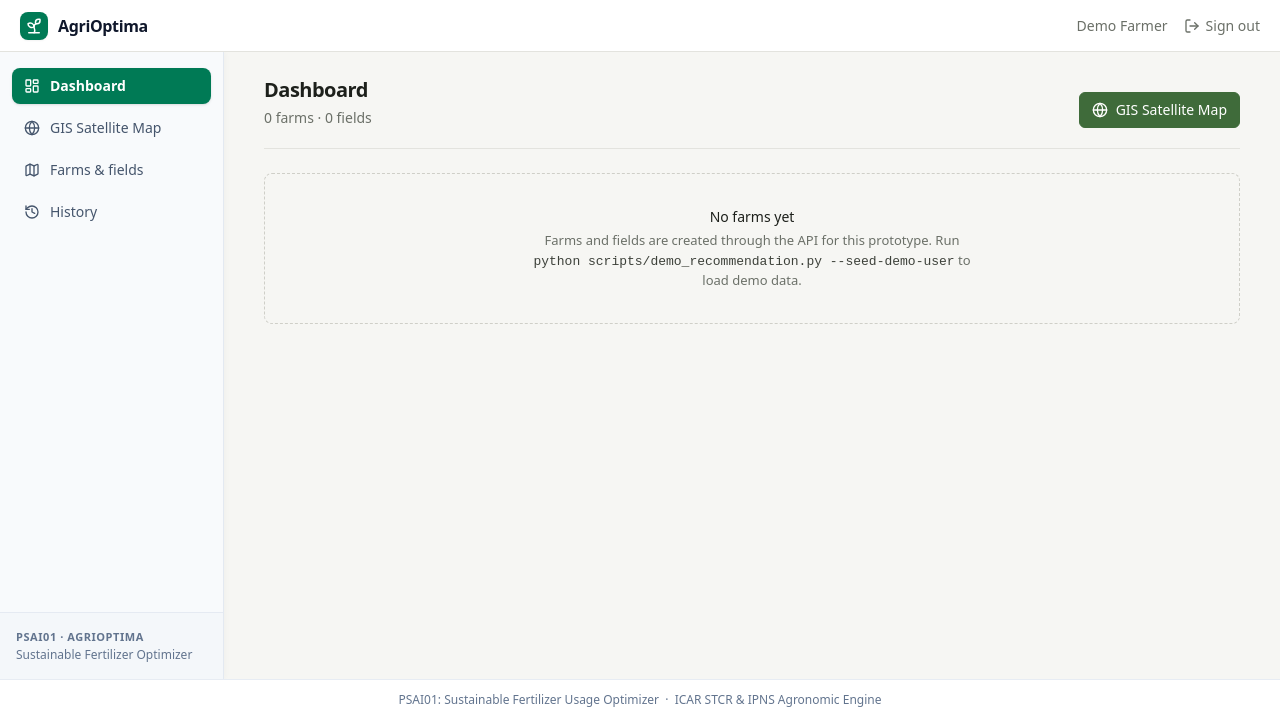
it: login › signs out and returns to the login page
Expected: the heading "Dashboard" is shown, [264,76,372,104]
Click the button "Sign out" at (1222, 26), box [1184,16,1260,36]
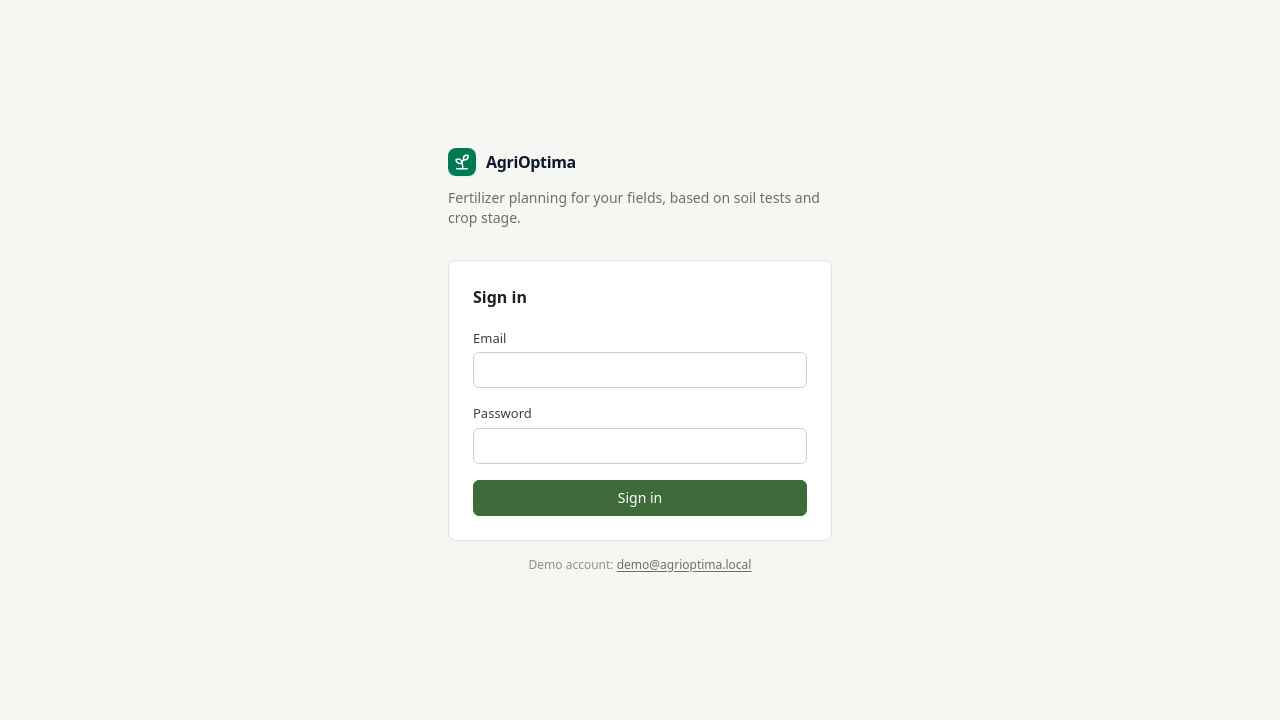
Expected: the heading "Sign in" is shown, [473,286,527,308]
